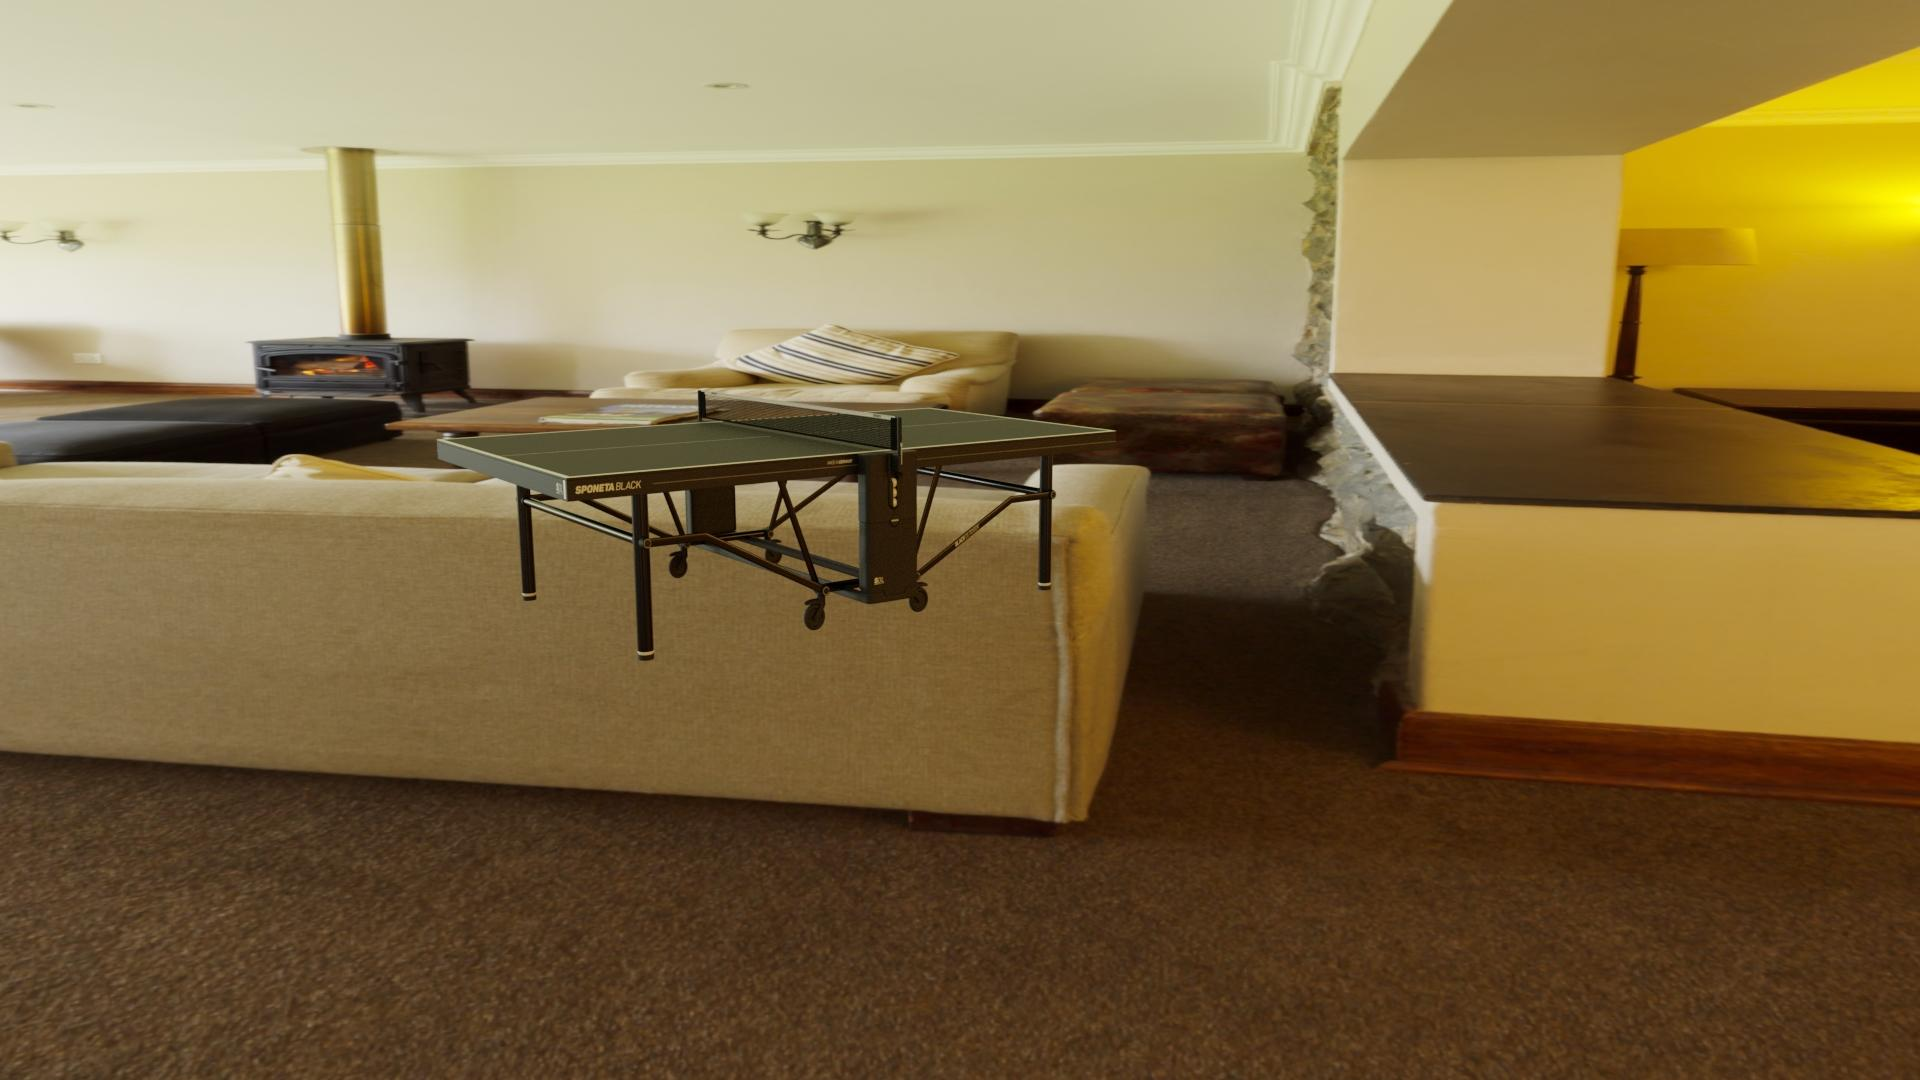table: (443, 409, 1110, 476)
